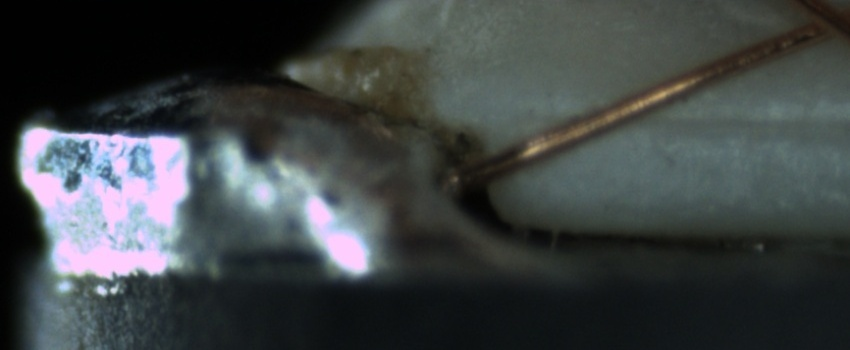CL: (774, 2, 849, 47)
DL: (610, 85, 847, 156)
